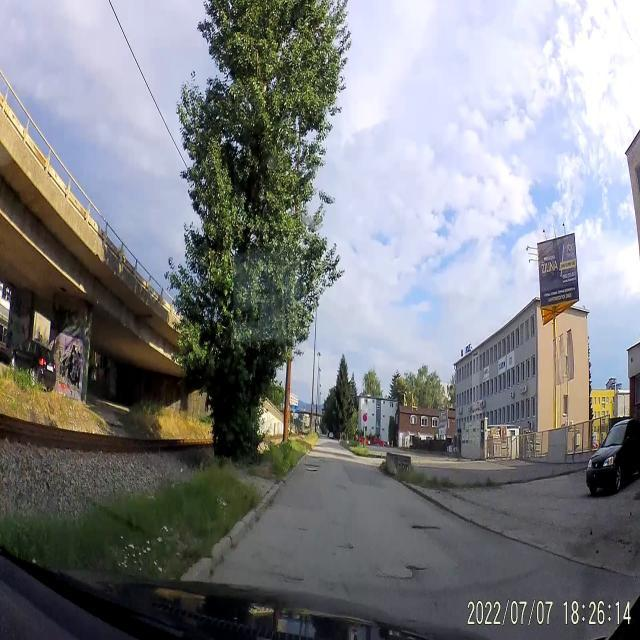Pothole: (376, 560, 431, 583), (332, 532, 362, 556), (409, 519, 442, 535), (272, 570, 306, 584), (304, 462, 320, 474), (296, 524, 310, 536)
